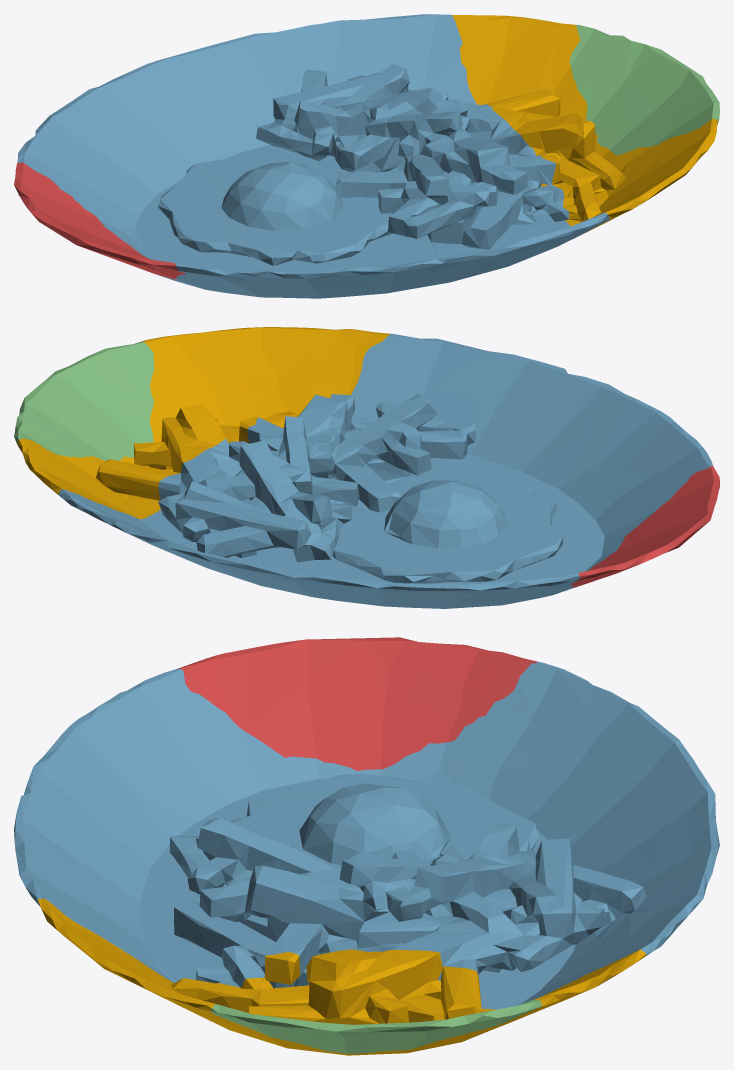
File: fractured_13_4pcs.glb
The picture shows the model from 3 angles, top to bottom: view 1: azimuth 30°, elevation 25°; view 2: azimuth 150°, elevation 25°; view 3: azimuth 270°, elevation 25°; orthographic projection. The views are drawn at different scales.
Visible parts, largest first — view 1: piece_2.obj, piece_0.obj, piece_3.obj, piece_1.obj; view 2: piece_2.obj, piece_0.obj, piece_3.obj, piece_1.obj; view 3: piece_2.obj, piece_1.obj, piece_0.obj, piece_3.obj.
Boxes of the visible parts, x1,y1,x2,y2 form: piece_2.obj: (17, 14, 609, 298); piece_0.obj: (452, 15, 717, 236); piece_3.obj: (569, 24, 719, 155); piece_1.obj: (14, 162, 186, 279); piece_2.obj: (58, 333, 712, 608); piece_0.obj: (17, 327, 390, 519); piece_3.obj: (14, 341, 154, 460); piece_1.obj: (569, 466, 719, 588); piece_2.obj: (14, 661, 719, 1009); piece_1.obj: (176, 637, 537, 770); piece_0.obj: (37, 898, 646, 1055); piece_3.obj: (210, 1000, 541, 1053).
Bounding box in the file's own units: 1 × 0.1241 × 0.7609.
